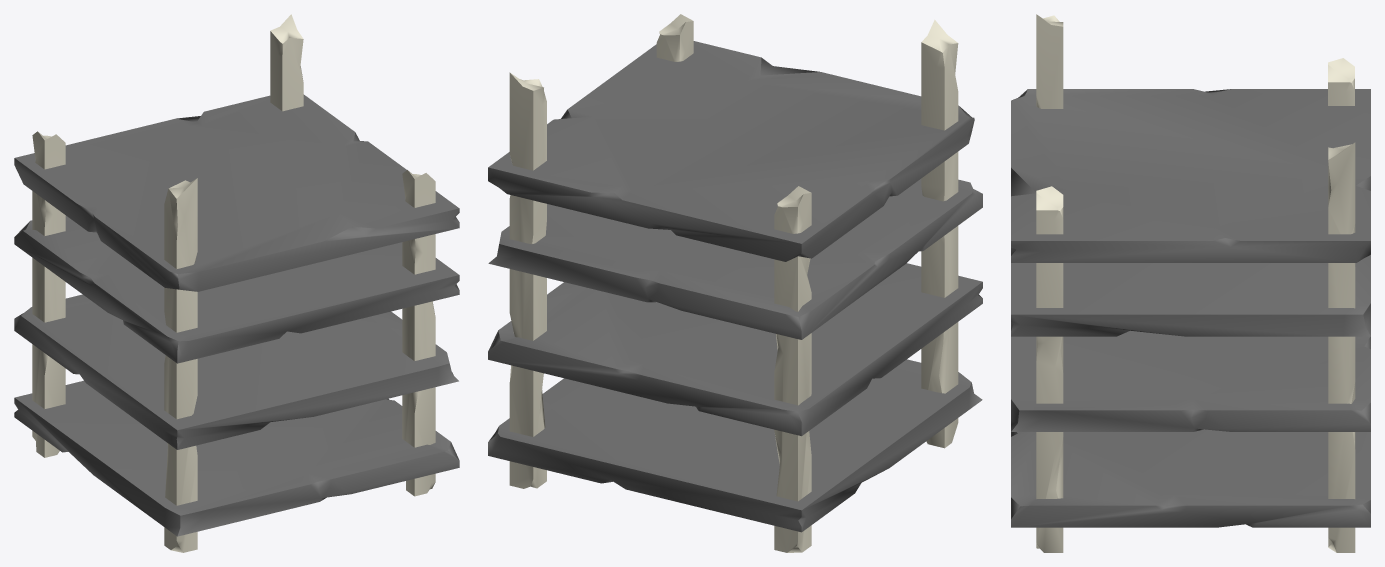
Rendered from Ruins_PlaceHolder Model.fbx.
3 views of the same model, side by side, from view 1: azimuth 30°, elevation 25°; view 2: azimuth 150°, elevation 25°; view 3: azimuth 270°, elevation 25° (orthographic). The views are drawn at different scales.
Parts seen in each view (by area): view 1: Box004, Box001, Box002, Box003, Box008, Box005, Box007, Box006; view 2: Box004, Box001, Box002, Box003, Box006, Box008, Box007, Box005; view 3: Box004, Box002, Box001, Box003, Box006, Box005, Box008, Box007.
Boxes of the visible parts, <box> form: Box004: <box>14,94,459,291</box>; Box001: <box>14,380,459,536</box>; Box002: <box>14,294,458,449</box>; Box003: <box>14,215,459,363</box>; Box008: <box>164,178,197,552</box>; Box005: <box>402,170,435,496</box>; Box007: <box>32,131,65,457</box>; Box006: <box>270,14,303,111</box>; Box004: <box>488,41,974,261</box>; Box001: <box>488,359,982,532</box>; Box002: <box>488,263,982,436</box>; Box003: <box>488,179,982,339</box>; Box006: <box>509,72,546,488</box>; Box008: <box>921,19,958,448</box>; Box007: <box>774,186,811,552</box>; Box005: <box>656,14,693,61</box>; Box004: <box>1011,89,1370,262</box>; Box002: <box>1011,330,1370,431</box>; Box001: <box>1011,429,1370,527</box>; Box003: <box>1011,255,1370,336</box>; Box006: <box>1328,142,1355,552</box>; Box005: <box>1036,186,1063,552</box>; Box008: <box>1036,14,1063,108</box>; Box007: <box>1328,58,1354,105</box>.
Bounding box in the file's own units: 0.4379 × 0.4379 × 0.5514.
